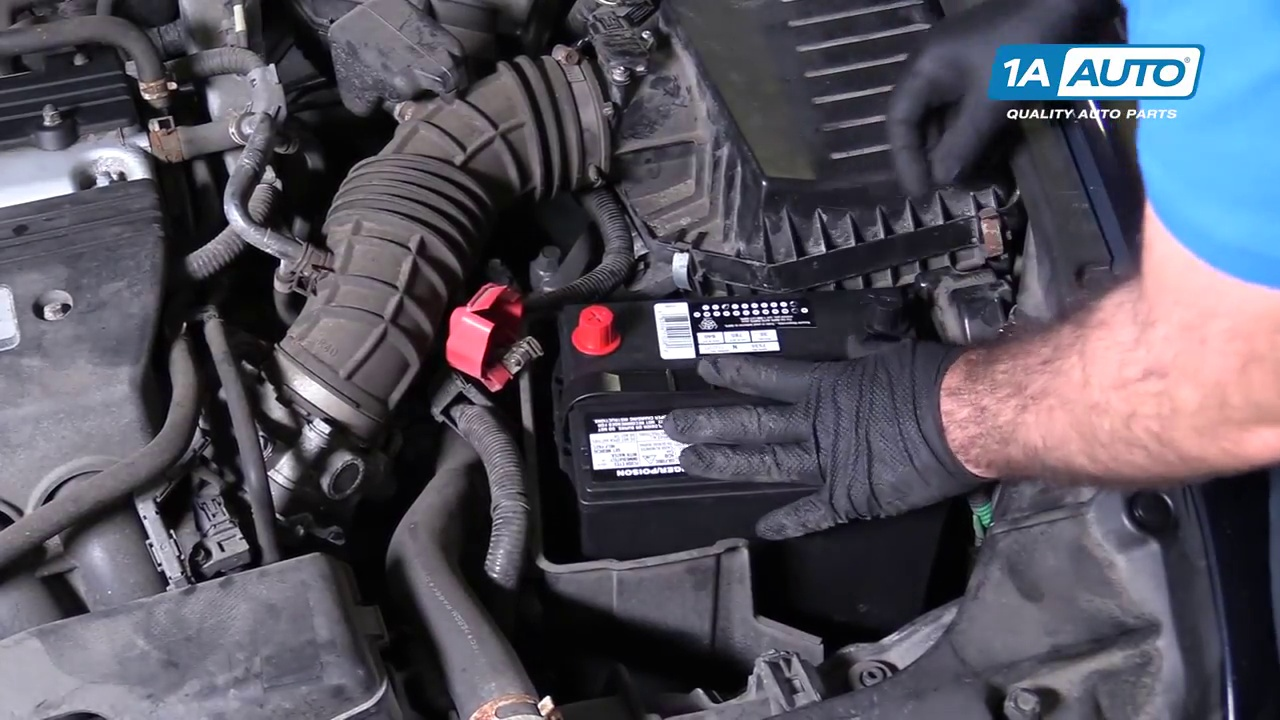battery: (557, 287, 942, 492)
pos_disconnected: (426, 257, 632, 401)
